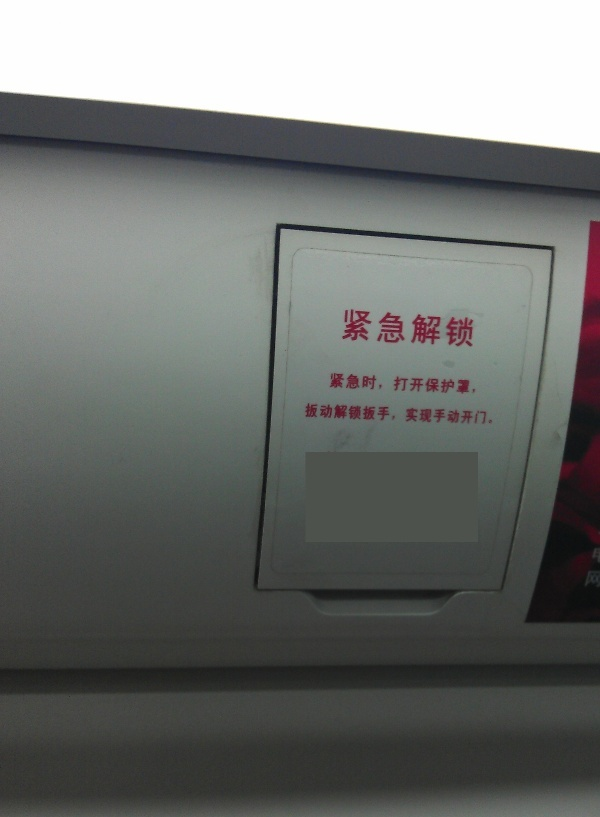text: (353, 308, 368, 352), (369, 308, 384, 352), (385, 308, 400, 352), (401, 308, 416, 352), (417, 308, 432, 352), (433, 308, 448, 352), (449, 308, 464, 352), (465, 308, 478, 352), (337, 372, 352, 397), (353, 372, 368, 397), (369, 372, 384, 397), (385, 372, 400, 397), (401, 372, 416, 397), (417, 372, 432, 397), (433, 372, 448, 397), (449, 372, 464, 397), (321, 403, 336, 427), (337, 403, 352, 427), (353, 403, 368, 427), (369, 403, 384, 427), (385, 403, 400, 427), (401, 403, 416, 427), (417, 403, 432, 427), (433, 403, 448, 427), (449, 403, 464, 427), (465, 403, 480, 427), (481, 403, 496, 427), (306, 403, 320, 427), (465, 372, 478, 397), (345, 308, 352, 352), (328, 372, 336, 397)
